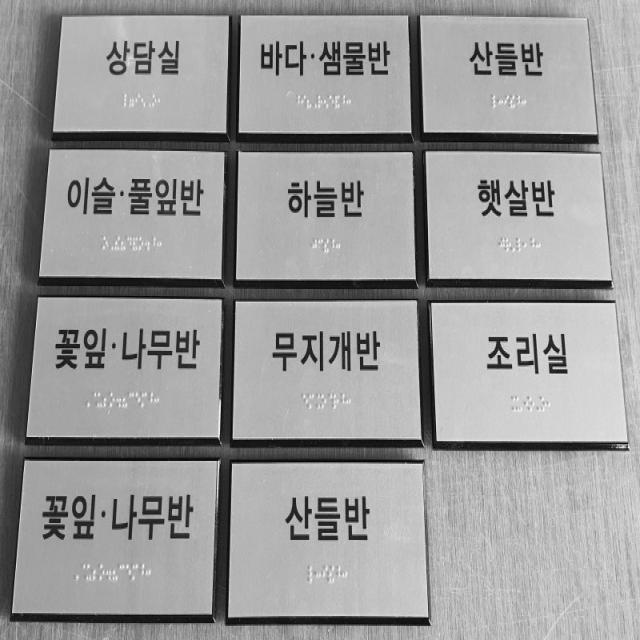braiile: (71, 564, 86, 582), (83, 390, 96, 409), (103, 390, 110, 409), (102, 236, 110, 252), (109, 390, 116, 408), (138, 564, 145, 582), (302, 393, 309, 411), (315, 392, 322, 410), (333, 392, 340, 410), (308, 565, 315, 583), (96, 391, 103, 408), (128, 391, 135, 408), (135, 391, 142, 408), (147, 391, 154, 408), (92, 564, 99, 581), (98, 563, 105, 580), (105, 564, 112, 581), (125, 564, 132, 581), (308, 393, 315, 410), (145, 563, 151, 582), (346, 391, 352, 410), (108, 236, 115, 252), (509, 396, 516, 412), (116, 390, 122, 408), (141, 391, 147, 409), (154, 391, 160, 409), (86, 564, 92, 582), (327, 392, 333, 410), (340, 392, 346, 410), (315, 565, 321, 583), (322, 565, 328, 583), (328, 565, 334, 583), (342, 564, 348, 582), (119, 564, 125, 581), (132, 564, 138, 581), (322, 393, 328, 410), (334, 565, 340, 582), (536, 396, 542, 413), (492, 94, 498, 110), (510, 94, 516, 110), (516, 396, 522, 412), (522, 396, 528, 412), (548, 396, 554, 412), (140, 93, 146, 108), (146, 93, 152, 108), (114, 236, 120, 251), (132, 236, 138, 251), (150, 236, 156, 251), (156, 236, 162, 251), (312, 238, 318, 253), (529, 396, 535, 411), (157, 94, 163, 108), (126, 236, 132, 250), (144, 236, 150, 250), (323, 96, 329, 110), (336, 239, 342, 253), (498, 95, 504, 109), (506, 238, 512, 252), (535, 238, 541, 252), (542, 396, 547, 412), (295, 95, 301, 108), (340, 95, 346, 108), (124, 93, 129, 108), (135, 93, 140, 108), (318, 238, 323, 253), (324, 238, 329, 253), (330, 238, 335, 253), (500, 238, 505, 253), (129, 94, 134, 108), (152, 94, 157, 108), (139, 236, 144, 250), (312, 95, 317, 109), (318, 95, 323, 109), (329, 95, 334, 109), (346, 95, 351, 109), (517, 238, 522, 252), (524, 238, 529, 252), (530, 238, 535, 252), (301, 95, 306, 108), (335, 95, 340, 108), (504, 95, 509, 108), (521, 95, 526, 108), (516, 94, 520, 109), (512, 237, 516, 252)
